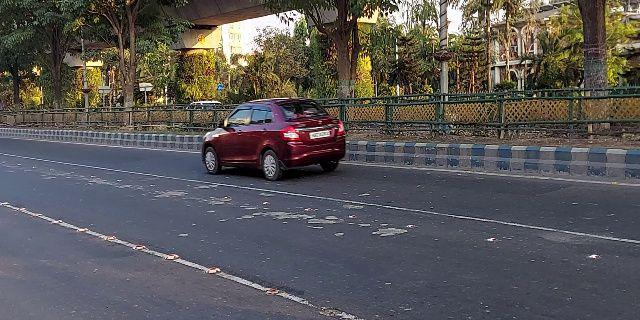Car: (199, 95, 349, 185)
